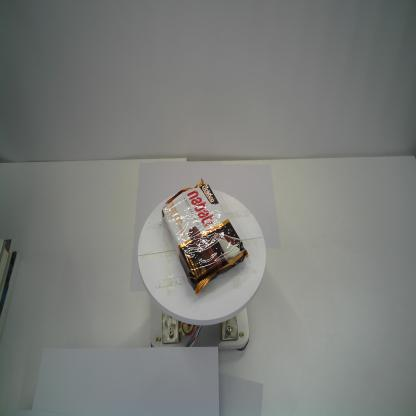Dessert: (161, 177, 250, 296)
